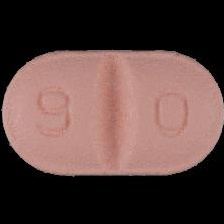48433-316: (0, 0, 224, 224)
